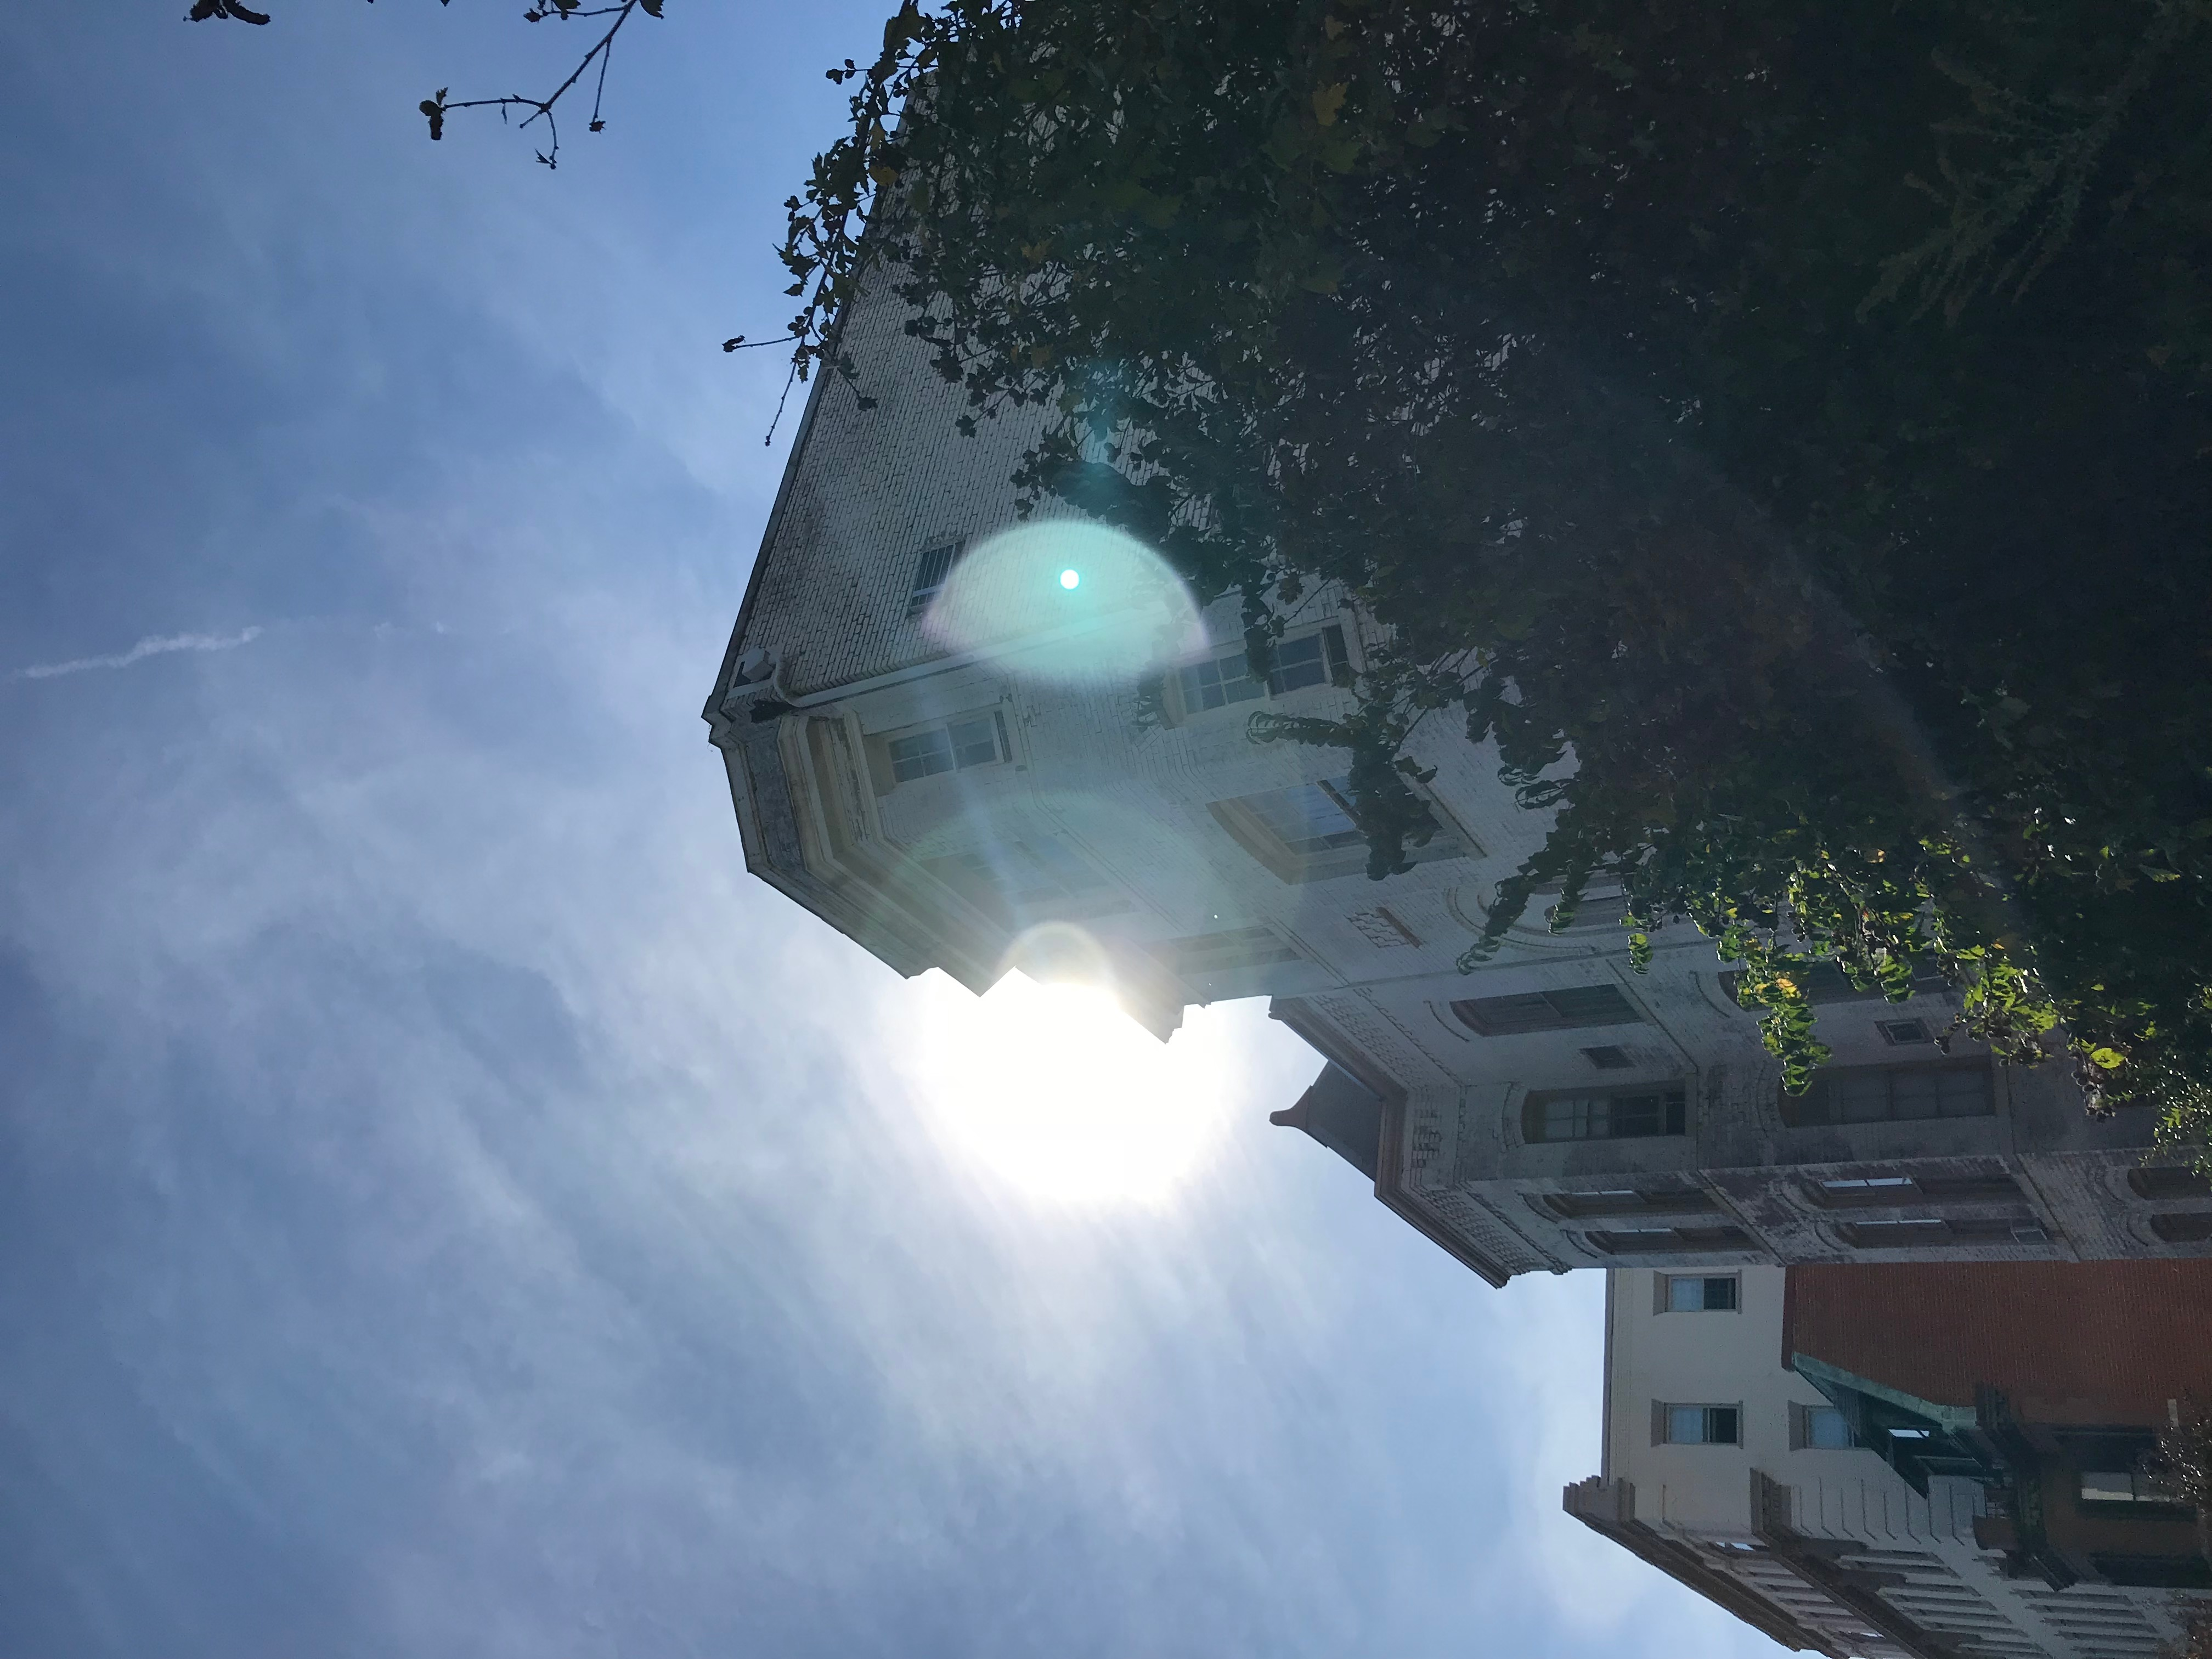flare: (1059, 568, 1082, 591)
